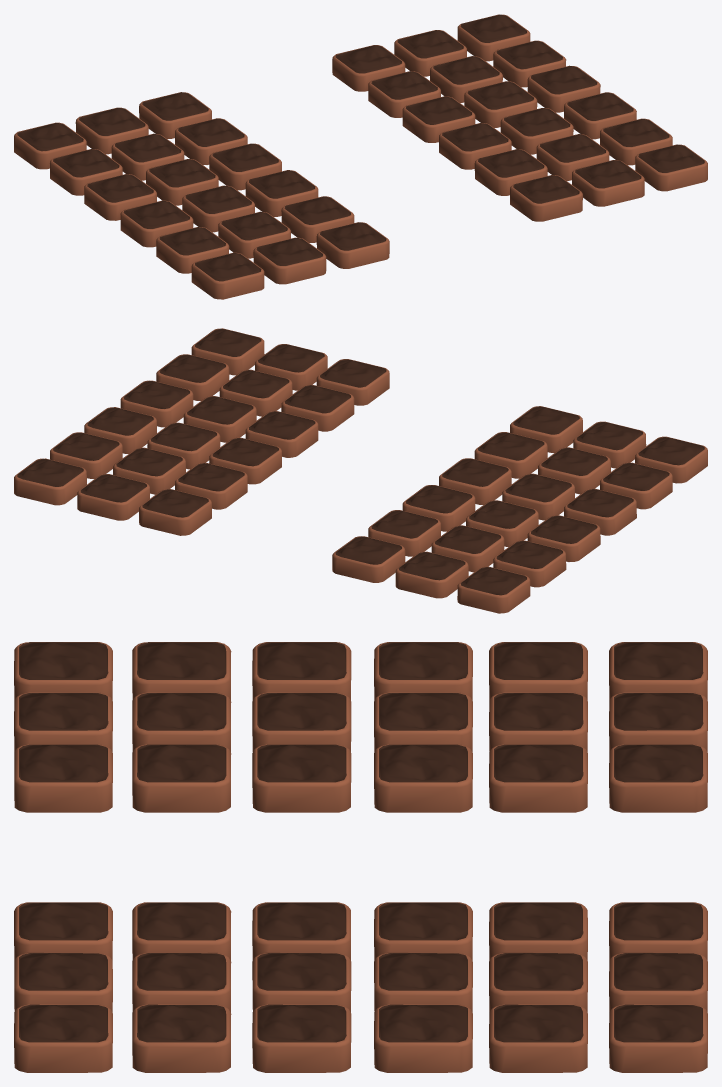
The model's file is ada1 ekilmiü.fbx.
The picture shows the model from 3 angles, top to bottom: view 1: azimuth 30°, elevation 25°; view 2: azimuth 150°, elevation 25°; view 3: azimuth 270°, elevation 25°; orthographic projection. The views are drawn at different scales.
Parts seen in each view (by area): view 1: kahve karo.071, kahve karo.167, kahve karo.075, kahve karo.177, kahve karo.073, kahve karo.168, kahve karo.089, kahve karo.053, kahve karo.059, kahve karo.077, kahve karo.005, kahve karo.095 (+24 smaller); view 2: kahve karo.005, kahve karo.077, kahve karo.045, kahve karo.081, kahve karo.007, kahve karo.079, kahve karo.095, kahve karo.059, kahve karo.101, kahve karo.047, kahve karo.065, kahve karo.083 (+24 smaller); view 3: kahve karo.063, kahve karo.099, kahve karo.069, kahve karo.081, kahve karo.087, kahve karo.093, kahve karo.105, kahve karo.177, kahve karo.075, kahve karo.045, kahve karo.051, kahve karo.057 (+24 smaller).
Boxes of the visible parts, <box> form: kahve karo.071: <box>191,252,264,299</box>; kahve karo.167: <box>510,175,582,221</box>; kahve karo.075: <box>316,222,389,268</box>; kahve karo.177: <box>635,144,707,191</box>; kahve karo.073: <box>253,237,326,284</box>; kahve karo.168: <box>572,160,644,206</box>; kahve karo.089: <box>402,96,475,142</box>; kahve karo.053: <box>84,174,156,220</box>; kahve karo.059: <box>120,200,193,247</box>; kahve karo.077: <box>332,45,405,91</box>; kahve karo.005: <box>14,122,86,169</box>; kahve karo.095: <box>439,123,511,169</box>; kahve karo.005: <box>457,566,530,613</box>; kahve karo.077: <box>139,489,211,535</box>; kahve karo.045: <box>332,536,405,582</box>; kahve karo.081: <box>14,458,86,505</box>; kahve karo.007: <box>395,551,468,598</box>; kahve karo.079: <box>77,474,149,520</box>; kahve karo.095: <box>245,411,318,457</box>; kahve karo.059: <box>564,488,636,535</box>; kahve karo.101: <box>281,384,354,431</box>; kahve karo.047: <box>493,540,566,587</box>; kahve karo.065: <box>600,462,672,509</box>; kahve karo.083: <box>175,462,247,509</box>; kahve karo.063: <box>252,744,351,812</box>; kahve karo.099: <box>252,1004,351,1072</box>; kahve karo.069: <box>132,744,231,812</box>; kahve karo.081: <box>609,1004,707,1072</box>; kahve karo.087: <box>489,1004,587,1072</box>; kahve karo.093: <box>374,1004,472,1072</box>; kahve karo.105: <box>132,1004,231,1072</box>; kahve karo.177: <box>14,1004,112,1072</box>; kahve karo.075: <box>14,744,112,812</box>; kahve karo.045: <box>609,744,707,812</box>; kahve karo.051: <box>489,744,587,812</box>; kahve karo.057: <box>374,744,472,812</box>.
Size of the model in its own units: 733 by 30.89 by 532.
